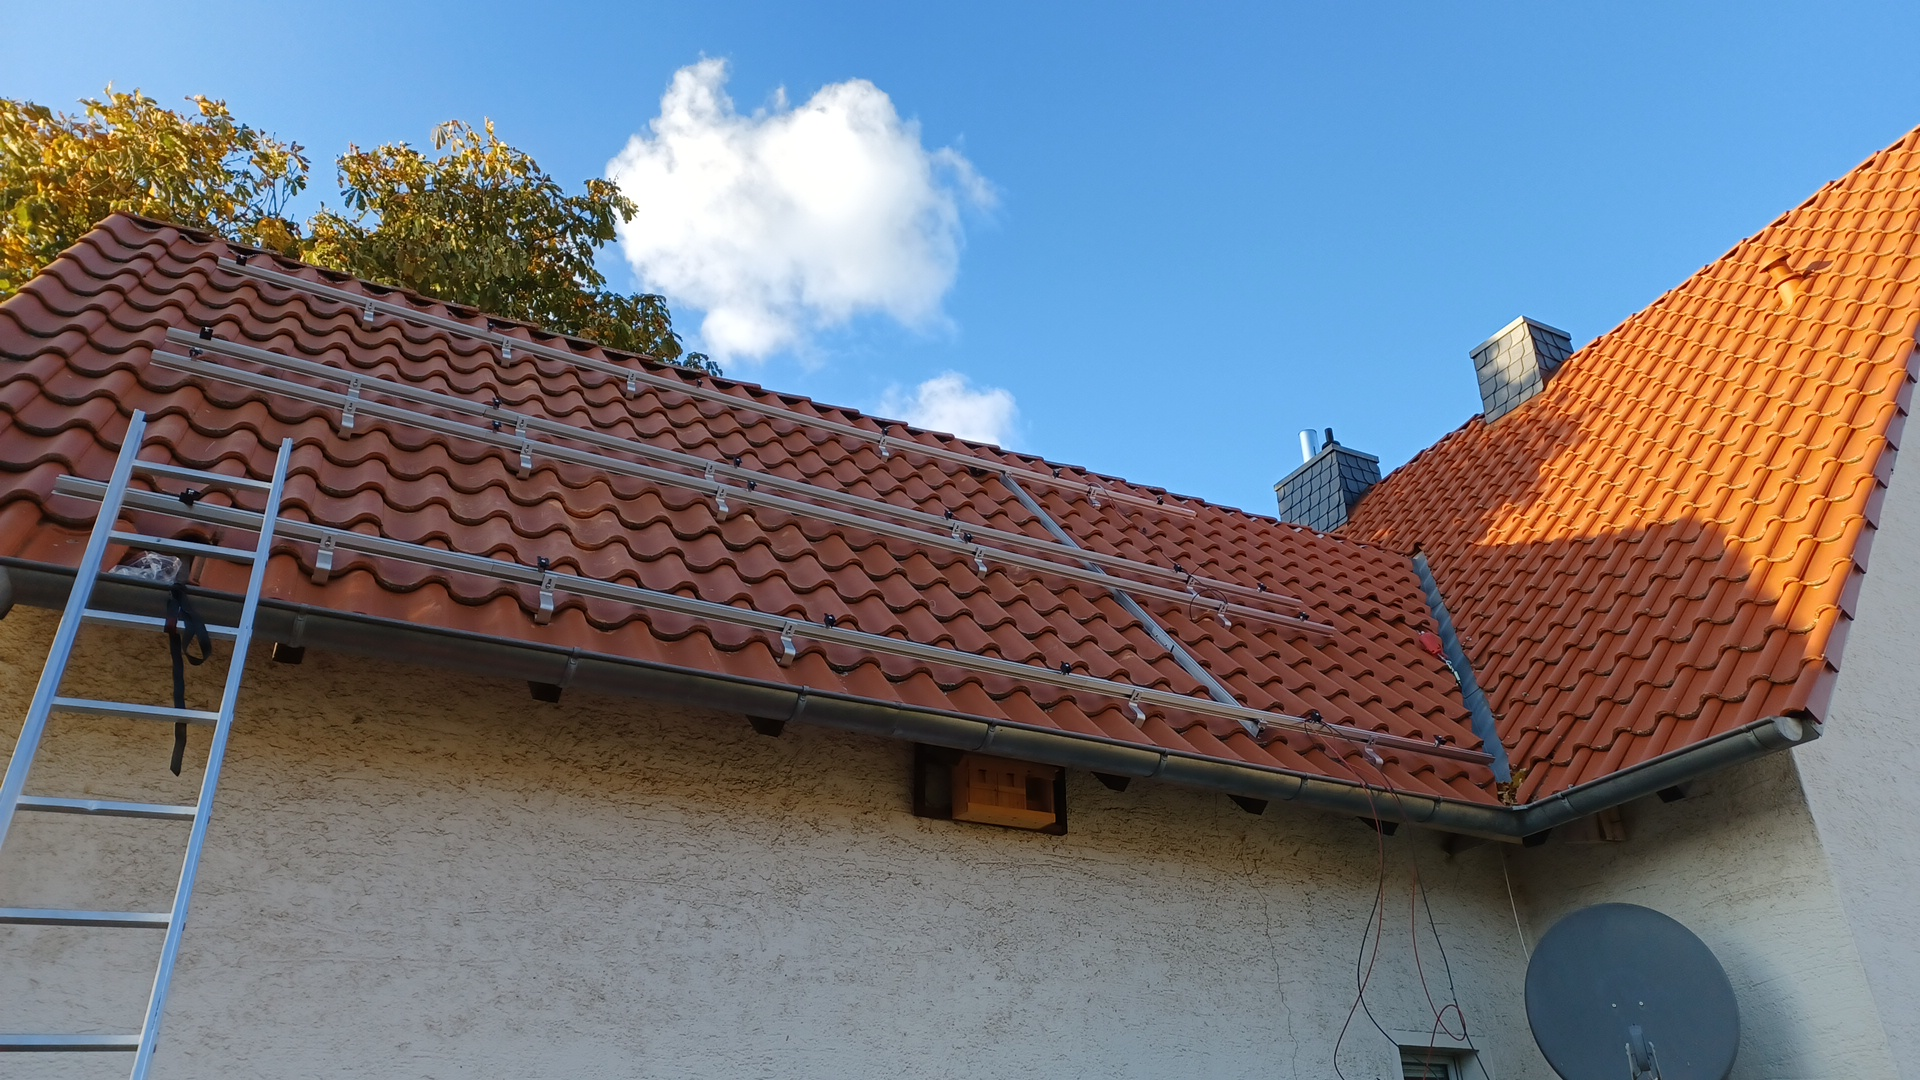hook: (311, 530, 338, 585), (533, 574, 558, 624), (775, 621, 796, 666), (338, 400, 357, 440), (1364, 735, 1385, 767), (1127, 688, 1145, 728), (516, 440, 533, 479), (715, 485, 729, 521), (972, 546, 986, 579), (361, 299, 376, 331), (1217, 603, 1232, 630), (500, 336, 512, 367), (348, 375, 363, 398), (1088, 487, 1101, 509), (1185, 575, 1200, 595), (516, 415, 529, 436), (626, 371, 636, 400), (878, 436, 889, 462), (704, 462, 716, 480), (951, 522, 963, 541)
